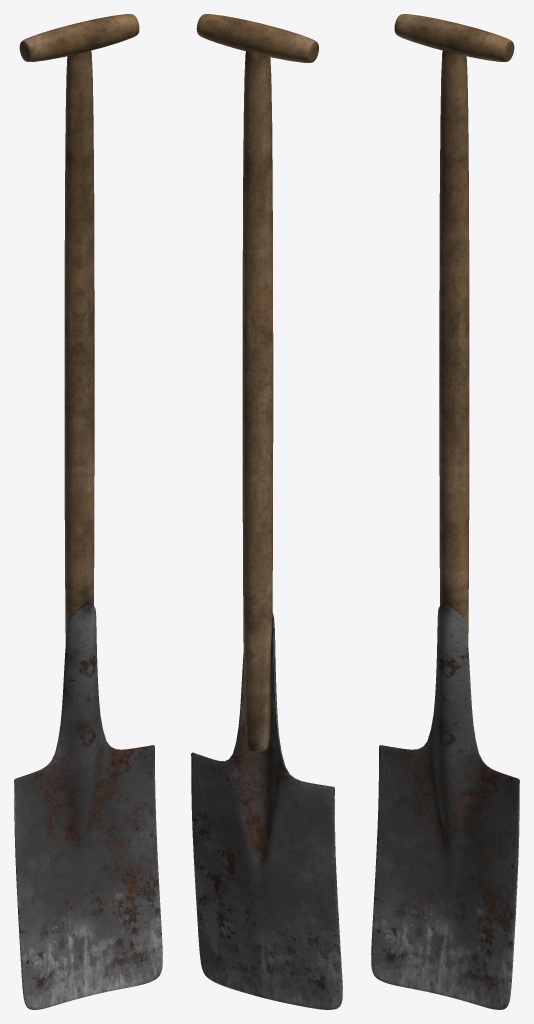
File: rusted_spade_01_2k.gltf
3 views of the same model, side by side, from view 1: azimuth 30°, elevation 25°; view 2: azimuth 150°, elevation 25°; view 3: azimuth 330°, elevation 25° (orthographic). The views are drawn at different scales.
Parts seen in each view (by area): view 1: rusted_spade_01; view 2: rusted_spade_01; view 3: rusted_spade_01.
Part boxes in pixels (left/top/right/bottom): rusted_spade_01: left=14, top=14, right=162, bottom=1009; rusted_spade_01: left=191, top=14, right=342, bottom=1009; rusted_spade_01: left=371, top=14, right=519, bottom=1009.
Bounding box in the file's own units: 0.1681 × 1.1 × 0.0456.
Materials: 1 (1 with a texture image).
